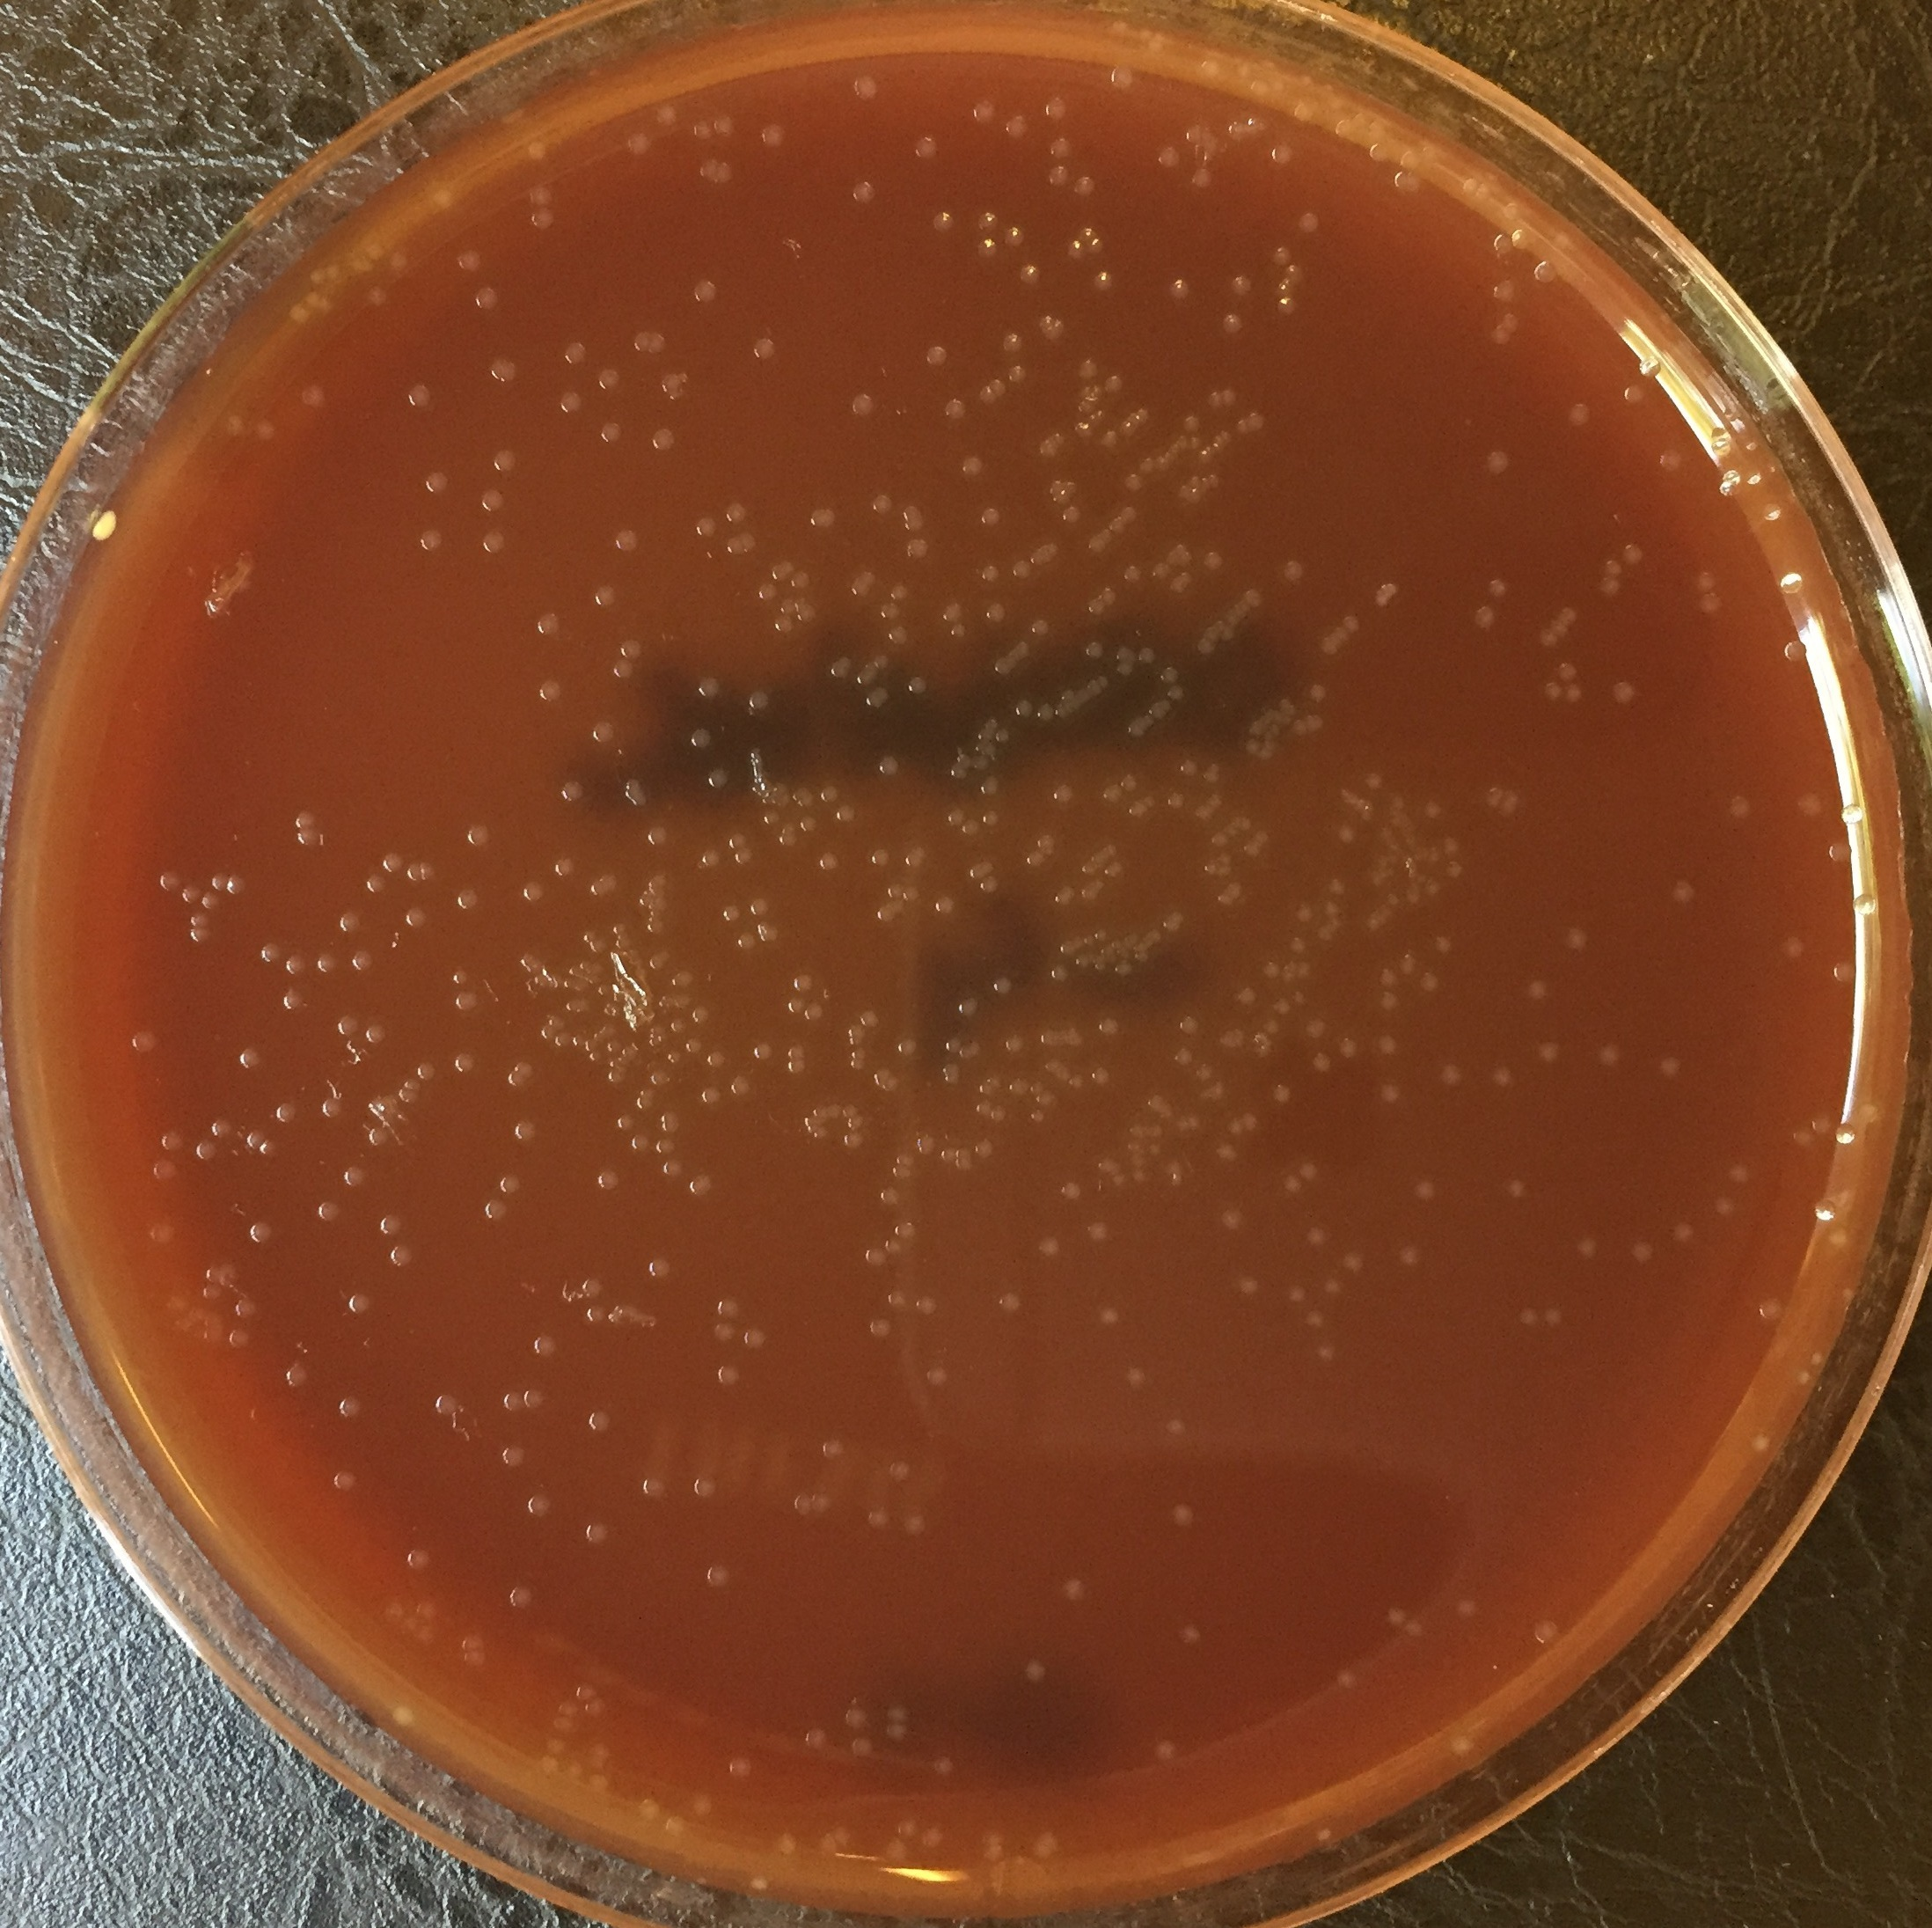sp10: (1480, 777, 1521, 825), (125, 1015, 161, 1068), (1185, 125, 1224, 157), (659, 371, 694, 403), (975, 1829, 1012, 1857), (1037, 307, 1063, 346), (1268, 141, 1302, 171), (411, 1600, 449, 1626), (1169, 1502, 1201, 1533), (247, 1218, 281, 1246), (486, 357, 519, 385), (622, 779, 652, 809), (650, 426, 680, 456), (1561, 925, 1591, 955), (851, 72, 881, 102), (1196, 56, 1226, 87), (150, 1155, 182, 1183), (510, 1118, 542, 1146), (298, 381, 330, 410), (1812, 1197, 1844, 1225), (1755, 1294, 1787, 1322), (848, 178, 879, 207), (913, 132, 941, 164), (659, 990, 694, 1015), (1123, 715, 1158, 740), (224, 411, 249, 447), (1215, 879, 1243, 909), (344, 1292, 374, 1321), (283, 1361, 313, 1390), (807, 1490, 837, 1518), (1061, 1573, 1090, 1603), (473, 282, 502, 313), (1572, 1234, 1602, 1262), (971, 97, 1000, 127), (1042, 95, 1072, 124), (1252, 1033, 1279, 1065), (334, 1395, 366, 1421), (1531, 1619, 1563, 1646), (929, 210, 961, 237), (1296, 715, 1332, 738), (1031, 537, 1060, 565), (1333, 1665, 1362, 1693), (1612, 676, 1641, 704), (1699, 591, 1727, 620), (1482, 448, 1510, 477), (1045, 881, 1075, 908), (387, 1243, 417, 1269), (585, 1520, 615, 1547), (848, 1734, 878, 1760), (1151, 1736, 1181, 1762), (1211, 1141, 1241, 1167), (491, 445, 517, 475), (595, 418, 625, 445), (454, 247, 484, 274), (1107, 64, 1137, 90), (1245, 78, 1275, 104), (906, 503, 931, 535), (1293, 95, 1314, 132), (1245, 581, 1270, 613), (316, 1197, 344, 1224), (378, 1211, 404, 1239), (145, 1222, 180, 1243), (500, 1442, 528, 1469), (692, 1472, 719, 1501), (726, 1757, 754, 1783), (1176, 1623, 1204, 1649), (237, 1045, 263, 1073), (521, 879, 549, 906), (717, 1294, 743, 1322), (687, 1172, 715, 1199), (535, 611, 563, 637), (770, 558, 798, 584), (426, 470, 452, 498), (482, 528, 509, 556), (1395, 1241, 1423, 1268), (1628, 1238, 1655, 1266), (1830, 959, 1858, 985), (1047, 136, 1075, 162), (1153, 147, 1181, 173), (1533, 258, 1561, 284), (1491, 279, 1519, 305), (1566, 401, 1595, 427), (1037, 433, 1067, 457), (645, 872, 675, 897), (1376, 579, 1400, 609), (505, 1585, 535, 1610), (807, 505, 837, 530), (759, 122, 789, 147), (1388, 169, 1420, 192), (1448, 1732, 1480, 1755), (194, 1137, 221, 1164), (484, 1195, 510, 1222), (433, 1391, 459, 1418), (586, 1769, 613, 1796), (350, 948, 376, 975), (925, 1365, 952, 1391), (586, 1407, 613, 1434), (592, 583, 618, 609), (1598, 1042, 1625, 1068), (1725, 795, 1752, 821), (1091, 268, 1118, 295), (749, 335, 775, 362), (1339, 613, 1365, 639), (1158, 909, 1187, 934), (1383, 1603, 1407, 1631), (337, 911, 366, 936), (1035, 1234, 1063, 1259), (867, 1317, 895, 1342), (1658, 1052, 1683, 1081), (1377, 990, 1406, 1015), (1851, 890, 1879, 915), (367, 284, 396, 309), (849, 390, 878, 415), (867, 493, 895, 517), (1201, 549, 1229, 574), (1619, 542, 1648, 567), (1206, 849, 1236, 872), (1227, 113, 1245, 152), (1167, 1158, 1189, 1190), (1070, 420, 1097, 445), (249, 417, 274, 443), (210, 1116, 237, 1141), (274, 1102, 300, 1126), (641, 1474, 668, 1499), (638, 1797, 664, 1822), (666, 1813, 692, 1838), (804, 1725, 828, 1751), (883, 1700, 909, 1725), (1023, 1658, 1047, 1684), (279, 989, 306, 1013), (1220, 1204, 1245, 1231), (1340, 1248, 1365, 1275), (1305, 1225, 1332, 1250), (913, 1292, 940, 1317), (818, 849, 844, 874), (696, 676, 722, 701), (864, 687, 890, 712), (406, 383, 433, 408), (1503, 1174, 1528, 1201), (1713, 1194, 1738, 1220), (1831, 1119, 1858, 1144), (1521, 978, 1547, 1003), (1826, 839, 1853, 863), (625, 131, 652, 155), (712, 113, 736, 139), (1001, 113, 1028, 138), (1639, 353, 1665, 378), (924, 343, 948, 369), (1132, 641, 1158, 666), (1471, 604, 1496, 630), (1784, 639, 1808, 666), (948, 750, 971, 779), (1203, 759, 1226, 787), (1219, 1028, 1247, 1051), (996, 1289, 1024, 1312), (747, 690, 775, 713), (525, 139, 553, 162), (653, 104, 682, 127), (975, 775, 1003, 798), (1023, 847, 1051, 870), (343, 1164, 367, 1188), (390, 1704, 415, 1728), (887, 1458, 911, 1483), (844, 1706, 869, 1730), (920, 1827, 945, 1852), (932, 1755, 957, 1780), (334, 1013, 358, 1038), (743, 1326, 768, 1351), (754, 918, 779, 943), (618, 636, 643, 660), (526, 184, 551, 208), (562, 341, 586, 365), (1826, 1225, 1851, 1250), (1439, 1061, 1464, 1086), (1669, 879, 1694, 904), (1780, 932, 1805, 957), (1072, 171, 1097, 196), (1176, 757, 1201, 782), (1102, 784, 1127, 809), (1602, 554, 1626, 579), (1243, 111, 1270, 134), (1171, 569, 1194, 595), (1045, 477, 1072, 500), (789, 786, 812, 812), (1148, 1093, 1174, 1116), (332, 1469, 358, 1492), (864, 1506, 890, 1529), (775, 1829, 798, 1856), (1453, 1598, 1480, 1621), (452, 990, 479, 1013), (1084, 1222, 1111, 1245), (530, 1335, 556, 1358), (579, 1275, 602, 1301), (715, 1363, 742, 1386), (535, 680, 562, 703), (590, 720, 616, 743), (609, 659, 636, 682), (694, 517, 721, 540), (828, 655, 851, 682), (1409, 1179, 1436, 1202), (1807, 1114, 1833, 1137), (1337, 1035, 1360, 1061), (1418, 968, 1445, 990), (1796, 789, 1823, 812), (973, 237, 1000, 260), (1491, 328, 1517, 351), (906, 537, 932, 560), (1307, 680, 1330, 706), (874, 754, 901, 777), (555, 1698, 583, 1720), (295, 828, 323, 849), (1097, 431, 1125, 452), (1111, 659, 1134, 683), (961, 1038, 984, 1063), (233, 1296, 256, 1321), (705, 1564, 729, 1587), (821, 1437, 846, 1460), (691, 1794, 713, 1819), (885, 1840, 909, 1863), (895, 1817, 920, 1840), (364, 1024, 389, 1047), (454, 1052, 477, 1077), (404, 906, 429, 929), (364, 872, 389, 895), (464, 825, 489, 847), (691, 1003, 713, 1028), (1178, 1013, 1201, 1038), (1270, 996, 1294, 1019), (1298, 1160, 1323, 1183), (1121, 1363, 1146, 1386), (648, 1255, 673, 1278), (630, 1132, 653, 1156), (616, 530, 641, 553), (789, 567, 814, 590), (887, 623, 911, 646), (480, 489, 505, 512), (419, 528, 443, 551), (558, 388, 583, 411), (597, 367, 622, 390), (692, 279, 715, 304), (1725, 1160, 1748, 1185), (1374, 1033, 1399, 1056), (698, 159, 722, 182), (1000, 226, 1024, 249), (1296, 210, 1321, 233), (1333, 118, 1356, 143), (1510, 226, 1533, 251), (1623, 380, 1646, 404), (1003, 330, 1026, 355), (977, 507, 1001, 530), (1074, 357, 1098, 380), (1051, 782, 1075, 805), (1485, 576, 1510, 599), (1556, 657, 1579, 682), (1542, 680, 1565, 704), (1695, 570, 1720, 593), (1596, 574, 1619, 599), (1556, 602, 1581, 625), (1658, 452, 1681, 477), (1164, 542, 1190, 563), (1423, 795, 1445, 821), (885, 1721, 911, 1743), (187, 925, 214, 946), (726, 1075, 752, 1096), (1095, 1015, 1121, 1036), (906, 674, 932, 696), (648, 332, 669, 358), (1044, 164, 1070, 185), (1189, 166, 1210, 192), (1268, 244, 1294, 265), (1224, 817, 1252, 837), (1319, 874, 1347, 893), (804, 1118, 832, 1137), (200, 1282, 228, 1301), (459, 1649, 487, 1668), (1033, 1831, 1061, 1850), (1319, 632, 1342, 655), (500, 1172, 523, 1195), (228, 1328, 251, 1351), (583, 1695, 606, 1718), (904, 1513, 927, 1536), (562, 1760, 585, 1783), (1402, 1617, 1425, 1640), (284, 952, 307, 975), (224, 872, 247, 895), (157, 869, 180, 892), (457, 888, 480, 911), (648, 950, 671, 973), (1003, 1033, 1026, 1056), (878, 1185, 901, 1208), (1173, 1047, 1196, 1070), (1272, 1084, 1294, 1107), (1303, 1308, 1326, 1331), (713, 1319, 736, 1342), (597, 1167, 620, 1190), (562, 779, 585, 802), (708, 768, 731, 791), (724, 501, 747, 524), (1030, 616, 1053, 639), (1097, 584, 1120, 607), (1014, 263, 1037, 286), (1229, 274, 1252, 297), (1367, 139, 1390, 162), (1007, 364, 1030, 387), (943, 397, 966, 420), (1060, 503, 1083, 526), (1166, 789, 1189, 812), (1339, 823, 1362, 846), (1563, 683, 1586, 706), (1536, 627, 1559, 650), (1245, 410, 1268, 433), (1286, 263, 1307, 288), (404, 1548, 429, 1570), (526, 1495, 551, 1517), (316, 952, 337, 976), (180, 883, 205, 904), (555, 855, 576, 879), (842, 1130, 867, 1151), (1234, 985, 1259, 1006), (1303, 1017, 1328, 1038), (835, 803, 860, 825), (932, 895, 957, 916), (756, 583, 781, 604), (879, 602, 904, 623), (1672, 1218, 1694, 1243), (1536, 1038, 1558, 1063), (1399, 952, 1420, 976), (389, 249, 413, 270), (364, 242, 389, 263), (1086, 233, 1107, 258), (1169, 275, 1190, 300), (1120, 772, 1141, 796), (1130, 800, 1155, 821), (645, 918, 671, 938), (516, 952, 542, 971), (187, 911, 214, 930), (1058, 1179, 1084, 1199), (1164, 1416, 1190, 1435), (1319, 899, 1347, 916), (1489, 233, 1510, 256), (367, 1126, 389, 1149), (242, 1126, 265, 1148), (546, 1736, 569, 1757), (537, 1755, 558, 1778), (592, 1739, 613, 1762), (814, 1829, 835, 1852), (512, 1059, 535, 1081), (210, 870, 231, 893), (381, 853, 404, 874), (669, 968, 692, 989), (957, 996, 980, 1017), (895, 1218, 917, 1241), (1090, 1066, 1113, 1088), (1259, 1017, 1282, 1038), (1312, 1052, 1335, 1073), (1238, 1111, 1259, 1133), (585, 1303, 608, 1324), (699, 846, 722, 867), (871, 846, 894, 867), (796, 600, 818, 623), (1314, 1342, 1337, 1363), (1543, 1305, 1566, 1326), (1789, 1125, 1812, 1146), (1379, 1079, 1400, 1102), (1491, 1065, 1513, 1086), (977, 210, 1000, 231), (1275, 293, 1296, 316), (1148, 699, 1173, 719), (1104, 863, 1128, 883), (1037, 1089, 1061, 1109), (646, 1024, 666, 1049), (321, 1098, 346, 1118), (399, 1088, 424, 1107), (293, 810, 318, 830), (977, 876, 1001, 895), (1792, 1368, 1817, 1388), (286, 302, 311, 321), (994, 724, 1012, 750), (971, 858, 998, 876), (381, 1601, 399, 1628), (804, 1003, 825, 1024), (992, 975, 1014, 996), (915, 1133, 936, 1155), (973, 1137, 994, 1158), (1236, 1275, 1257, 1296), (1286, 1282, 1307, 1303), (662, 1156, 683, 1178), (945, 807, 966, 828), (985, 599, 1007, 620), (1010, 558, 1031, 579), (1432, 934, 1453, 955), (1377, 966, 1399, 987), (1065, 240, 1086, 261), (1365, 772, 1386, 793), (973, 752, 992, 775), (404, 1614, 424, 1637), (162, 1130, 185, 1149), (646, 825, 669, 844), (602, 869, 622, 892), (705, 1051, 728, 1070), (858, 1010, 881, 1029), (864, 1246, 887, 1266), (1280, 1174, 1303, 1194), (1098, 1305, 1118, 1328), (1323, 1278, 1346, 1298), (615, 1111, 638, 1130), (689, 729, 712, 749), (941, 602, 964, 621), (1121, 563, 1144, 583), (1012, 699, 1035, 719), (532, 210, 555, 230), (632, 330, 652, 353), (691, 118, 710, 141), (1219, 314, 1241, 334), (961, 457, 984, 477), (1158, 664, 1178, 687), (1293, 902, 1316, 922), (1040, 825, 1058, 849), (1446, 858, 1464, 883), (793, 1492, 811, 1517), (419, 1624, 438, 1646), (203, 1264, 223, 1285), (523, 1388, 542, 1409), (415, 1063, 436, 1082), (260, 943, 281, 962), (201, 890, 223, 909), (588, 877, 608, 899), (683, 1035, 703, 1056), (883, 1236, 904, 1255), (887, 1289, 908, 1308), (726, 830, 747, 849), (733, 846, 754, 865), (749, 897, 768, 918), (902, 883, 922, 904), (874, 904, 895, 923), (959, 817, 980, 837), (982, 809, 1003, 828), (890, 583, 911, 602), (980, 561, 1000, 583), (1084, 599, 1106, 618), (1035, 703, 1056, 722), (1517, 1305, 1538, 1324), (1107, 373, 1127, 394), (1181, 413, 1201, 434), (1123, 470, 1143, 491), (1284, 558, 1305, 577), (1203, 1082, 1226, 1100), (1093, 1155, 1116, 1172), (574, 1683, 597, 1700), (403, 1077, 426, 1095), (505, 1070, 528, 1088), (701, 1086, 724, 1103), (715, 162, 733, 185), (1386, 893, 1411, 909), (1439, 832, 1459, 851), (1049, 960, 1068, 980), (752, 1042, 772, 1061), (788, 996, 807, 1015), (897, 1038, 917, 1058), (1111, 1172, 1130, 1192), (655, 1137, 675, 1156), (722, 902, 742, 922), (1084, 639, 1104, 659), (1407, 886, 1425, 908), (502, 1391, 519, 1412), (419, 860, 436, 881), (788, 1059, 809, 1077), (793, 975, 814, 992), (883, 1077, 904, 1095), (991, 1102, 1008, 1123), (1067, 1073, 1088, 1091), (1196, 1061, 1213, 1082), (1130, 1167, 1148, 1188), (650, 1070, 671, 1088), (796, 816, 818, 833), (819, 786, 841, 803), (738, 531, 759, 549), (774, 618, 795, 636), (1807, 1347, 1824, 1368), (1219, 387, 1236, 408), (1164, 683, 1185, 701), (406, 860, 422, 883), (890, 1165, 913, 1181), (777, 832, 800, 847), (989, 376, 1005, 399), (549, 1716, 574, 1730), (207, 1326, 226, 1344), (1113, 960, 1132, 978), (258, 1141, 277, 1158), (668, 1017, 687, 1035), (871, 1068, 890, 1086), (945, 1036, 964, 1054), (938, 1146, 957, 1164), (1010, 1077, 1030, 1095), (1185, 1112, 1203, 1132), (736, 932, 756, 950), (887, 881, 904, 900), (724, 537, 743, 554), (779, 597, 796, 616), (321, 261, 341, 279), (1077, 226, 1095, 245), (1503, 314, 1521, 334), (1287, 936, 1307, 953), (203, 1310, 224, 1326), (449, 969, 470, 985), (895, 1153, 917, 1169), (858, 570, 879, 586), (1208, 387, 1224, 408), (1070, 1024, 1084, 1047), (1240, 740, 1257, 757), (1035, 1028, 1053, 1045), (1047, 1059, 1065, 1077), (625, 1042, 643, 1059), (749, 1873, 766, 1891), (555, 1031, 572, 1049), (606, 1038, 623, 1056), (788, 1042, 805, 1059), (973, 1100, 991, 1118), (1028, 1109, 1045, 1126), (1226, 1118, 1243, 1135), (902, 853, 920, 870), (948, 621, 966, 639), (309, 267, 327, 284), (977, 387, 994, 404), (586, 938, 606, 953), (1114, 643, 1130, 662), (463, 1637, 482, 1653), (639, 1086, 659, 1102), (606, 1070, 625, 1086), (846, 1059, 867, 1073), (1263, 957, 1275, 980), (844, 1116, 867, 1128), (1128, 1123, 1144, 1141), (595, 1020, 613, 1036), (540, 1024, 558, 1040), (666, 1049, 683, 1065), (851, 1049, 869, 1065), (987, 1075, 1005, 1091), (1028, 1079, 1044, 1096), (659, 1109, 676, 1125), (779, 823, 796, 839), (1838, 1285, 1856, 1301), (825, 1105, 844, 1119), (943, 1063, 962, 1077), (660, 1121, 680, 1135), (634, 1096, 653, 1111), (611, 920, 627, 936), (581, 929, 597, 945), (955, 1155, 971, 1171), (842, 1102, 858, 1118), (978, 1082, 994, 1098), (1146, 1142, 1162, 1158), (763, 809, 779, 825), (874, 653, 890, 669), (615, 936, 632, 950), (1146, 1123, 1164, 1137), (1074, 955, 1088, 973), (1280, 959, 1293, 978), (1298, 960, 1314, 975), (572, 1031, 586, 1047), (583, 1038, 599, 1052), (563, 999, 579, 1013), (1153, 560, 1166, 577), (1056, 1024, 1067, 1043), (945, 1075, 964, 1086), (1083, 863, 1097, 877), (1429, 879, 1441, 895), (606, 1058, 620, 1070), (588, 1051, 602, 1063), (1296, 990, 1309, 1003), (1095, 929, 1107, 941), (814, 1105, 825, 1116)
